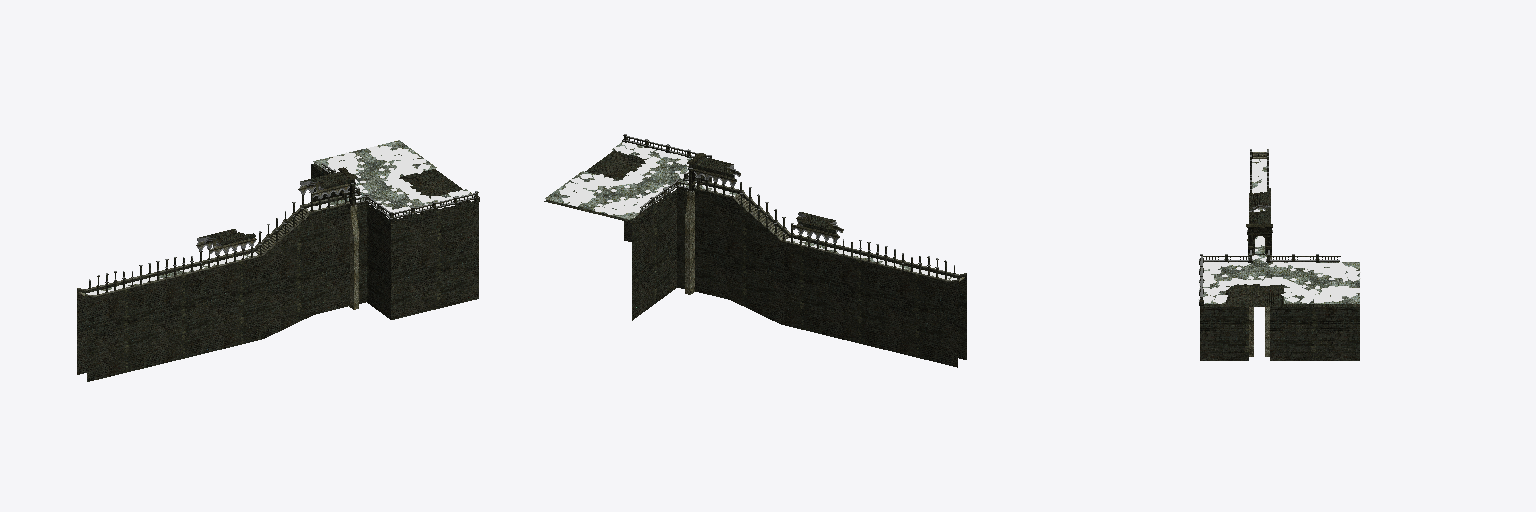
The picture shows the model from 3 angles: view 1: azimuth 30°, elevation 25°; view 2: azimuth 150°, elevation 25°; view 3: azimuth 270°, elevation 25°; orthographic projection.
Visible parts, largest first — view 1: mesh0, mesh7, mesh3, mesh4, mesh2, mesh5, mesh1; view 2: mesh0, mesh7, mesh3, mesh4, mesh2, mesh1, mesh5; view 3: mesh0, mesh7, mesh3.
Boxes of the visible parts, x1,y1,x2,y2 form: mesh0: [77, 163, 479, 381]; mesh7: [86, 146, 473, 294]; mesh3: [101, 140, 474, 290]; mesh4: [198, 184, 358, 309]; mesh2: [77, 196, 349, 296]; mesh5: [89, 163, 478, 282]; mesh1: [88, 164, 478, 294]; mesh0: [544, 136, 966, 367]; mesh7: [559, 142, 956, 280]; mesh3: [545, 142, 951, 280]; mesh4: [685, 169, 842, 294]; mesh2: [694, 181, 966, 281]; mesh1: [623, 135, 955, 279]; mesh5: [623, 134, 954, 267]; mesh0: [1199, 150, 1359, 360]; mesh7: [1198, 159, 1360, 303]; mesh3: [1203, 159, 1359, 303].
Bounding box in the file's own units: 64.04 × 23.4 × 24.62.
9 materials, 8 textured.